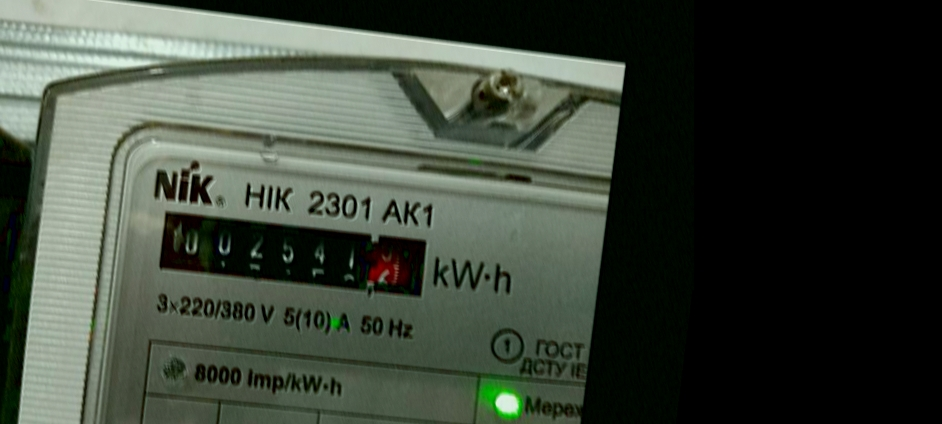0: (213, 223, 235, 258), (182, 225, 202, 256)
1: (340, 236, 360, 271)
2: (243, 226, 268, 262)
4: (309, 233, 330, 266)
5: (277, 232, 297, 266)
6: (373, 264, 392, 287)
screen: (141, 192, 450, 318)
